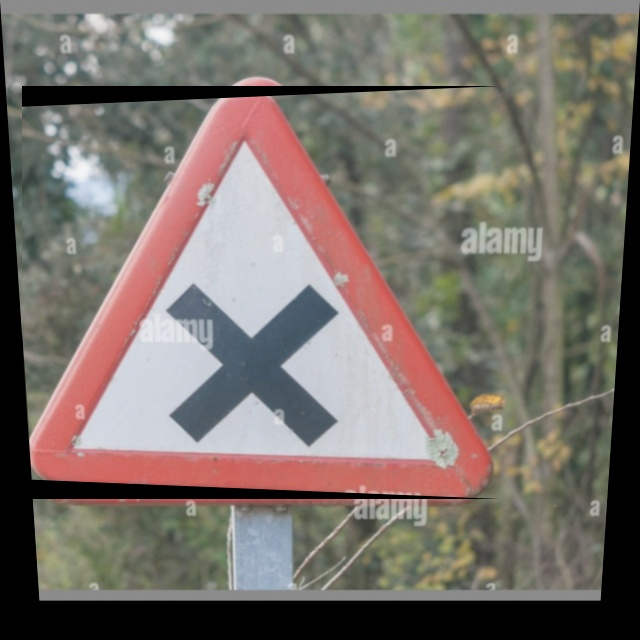Cross_Road: (22, 86, 501, 499)
